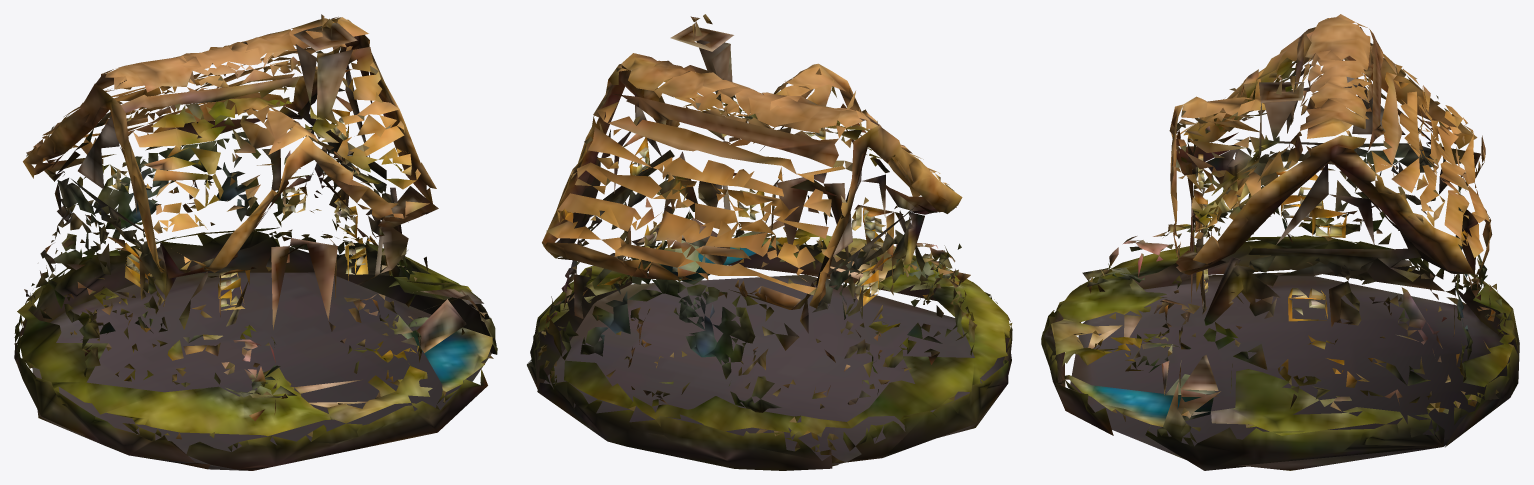
File: Enchanted_Thatch_Cott_town.glb
3 views of the same model, side by side, from view 1: azimuth 30°, elevation 25°; view 2: azimuth 150°, elevation 25°; view 3: azimuth 270°, elevation 25° (orthographic).
Parts seen in each view (by area): view 1: Enchanted_Thatch_Cott; view 2: Enchanted_Thatch_Cott; view 3: Enchanted_Thatch_Cott.
Boxes of the visible parts, <box> form: Enchanted_Thatch_Cott: <box>14,14,497,470</box>; Enchanted_Thatch_Cott: <box>527,14,1012,470</box>; Enchanted_Thatch_Cott: <box>1041,14,1519,470</box>.
Bounding box in the file's own units: 1.9 × 1.46 × 1.88.
1 material, 1 textured.
